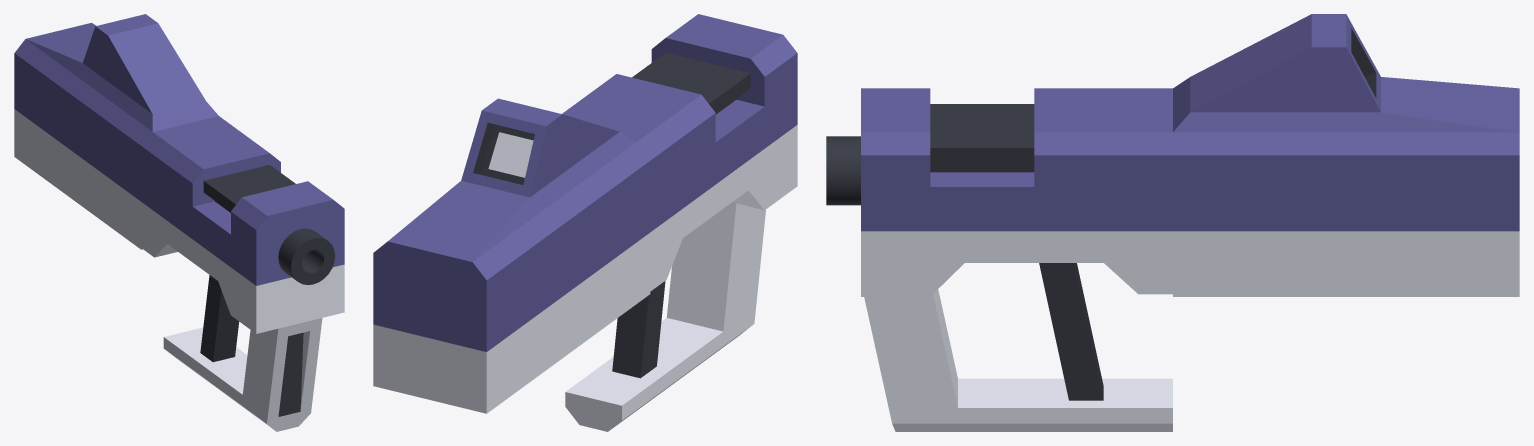
Rendered from GunOne.fbx.
3 views of the same model, side by side, from view 1: azimuth 30°, elevation 25°; view 2: azimuth 150°, elevation 25°; view 3: azimuth 270°, elevation 25° (orthographic). The views are drawn at different scales.
Parts seen in each view (by area): view 1: mergedBlocks; view 2: mergedBlocks; view 3: mergedBlocks.
Part boxes in pixels (x1,y1,x2,y2): mergedBlocks: [14, 14, 344, 431]; mergedBlocks: [373, 14, 797, 431]; mergedBlocks: [826, 14, 1519, 431].
Size of the model in its own units: 4 by 12.5 by 20.
